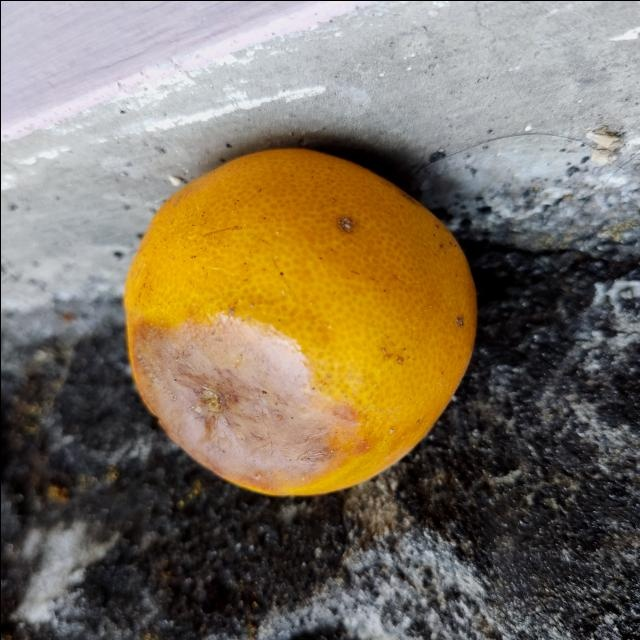agrume: (123, 146, 477, 494)
